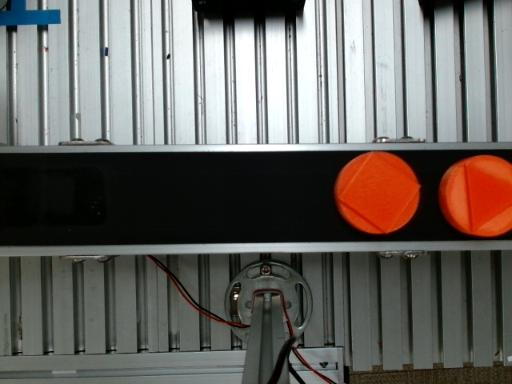Not_Square: (465, 160, 511, 233)
Orange_Waper: (334, 151, 420, 234), (438, 155, 511, 237)
Square: (337, 152, 422, 235)
